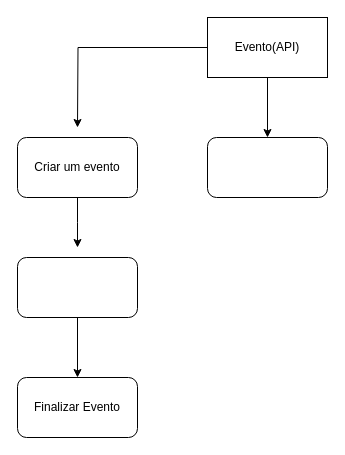
The diagram is 345 pixels wide and 455 high, and some of its shapes have lost their labels. Each missing label, with the centre of its shape:
"Alterar um evento" goes at (77,287).
"Listar" goes at (267,167).
